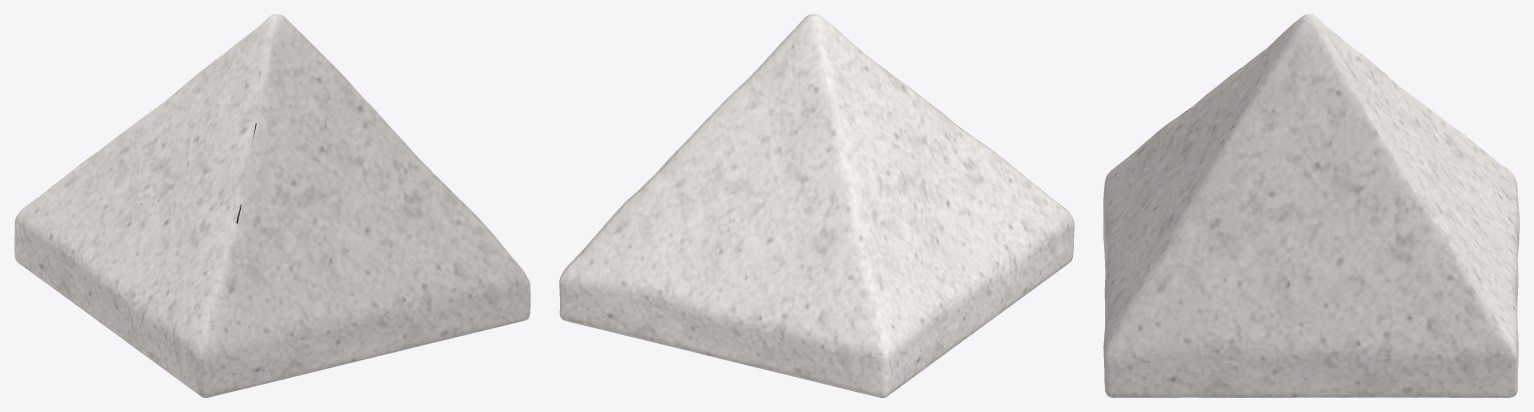
The model's file is tak-capstone-white.glb.
3 renders of one model, left to right at view 1: azimuth 30°, elevation 25°; view 2: azimuth 150°, elevation 25°; view 3: azimuth 270°, elevation 25°, orthographic. The views are drawn at different scales.
Visible parts, largest first — view 1: tak-capstone-white; view 2: tak-capstone-white; view 3: tak-capstone-white.
Boxes of the visible parts, x1,y1,x2,y2 form: tak-capstone-white: (14, 14, 530, 397); tak-capstone-white: (559, 14, 1074, 397); tak-capstone-white: (1103, 14, 1519, 397).
Size of the model in its own units: 0.0283 by 0.0224 by 0.0283.
1 material, 1 textured.
